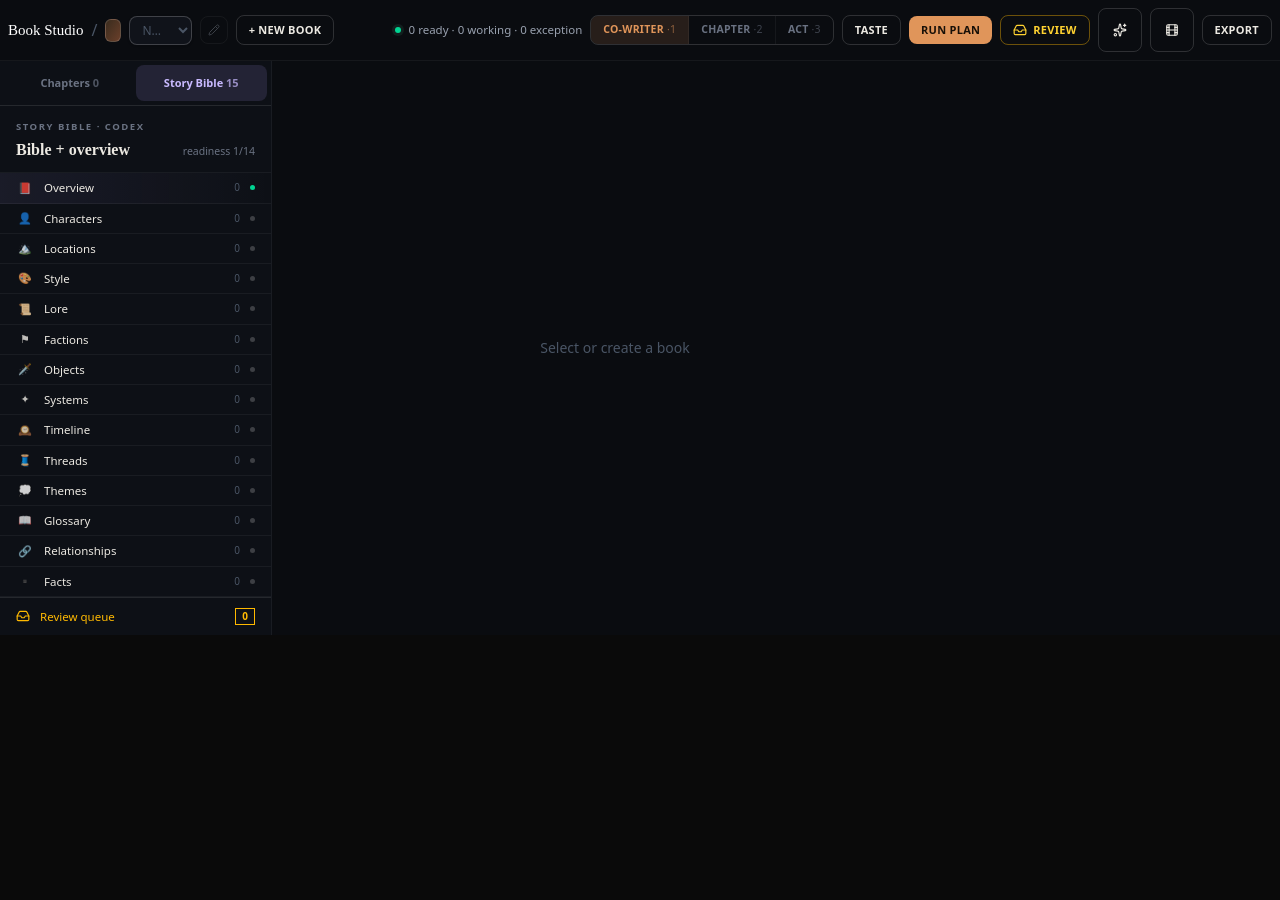
Test: DirectorsDeckPage — + NEW BOOK create flow › clicking + NEW BOOK opens the create-book modal
Click the button "+ New Book" at (285, 30), box left=236, top=15, right=334, bottom=45
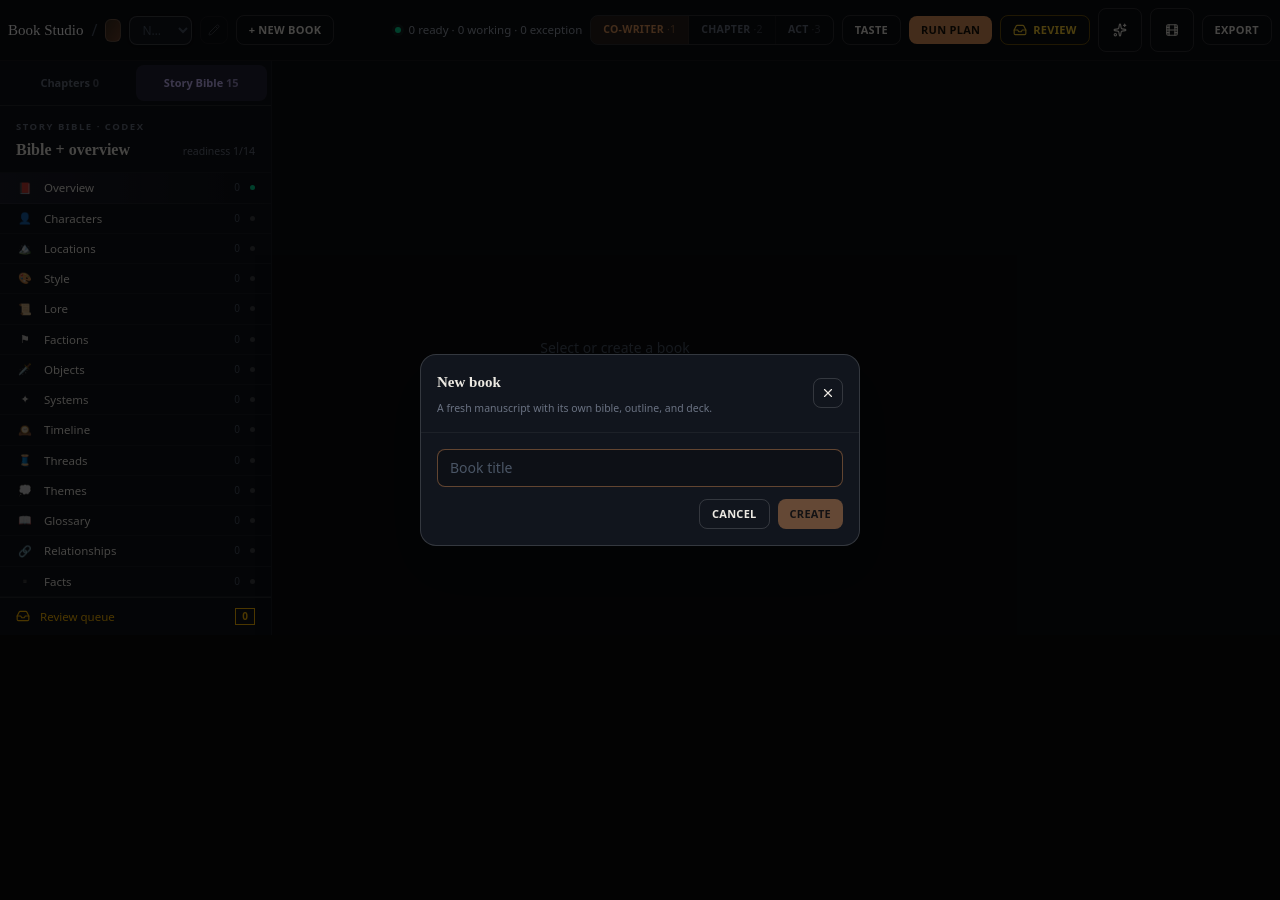
Expected: the dialog is shown, left=420, top=354, right=860, bottom=546
Expected: the dialog shows "New book", left=437, top=374, right=501, bottom=390
